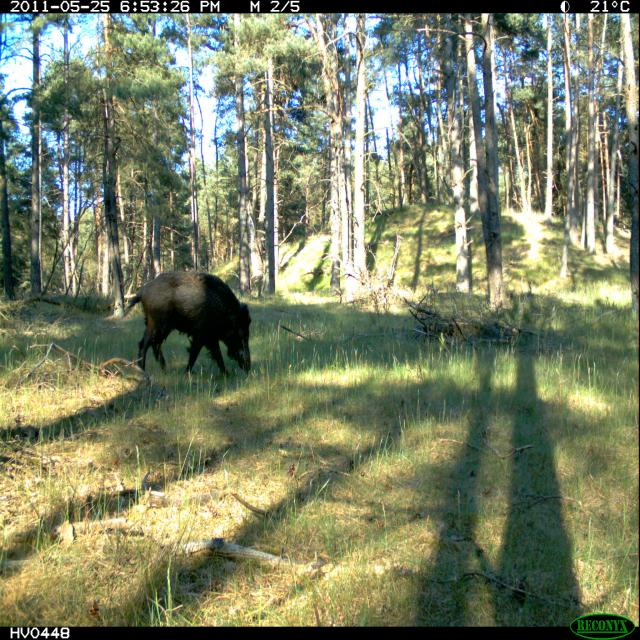boar: (123, 244, 271, 411)
